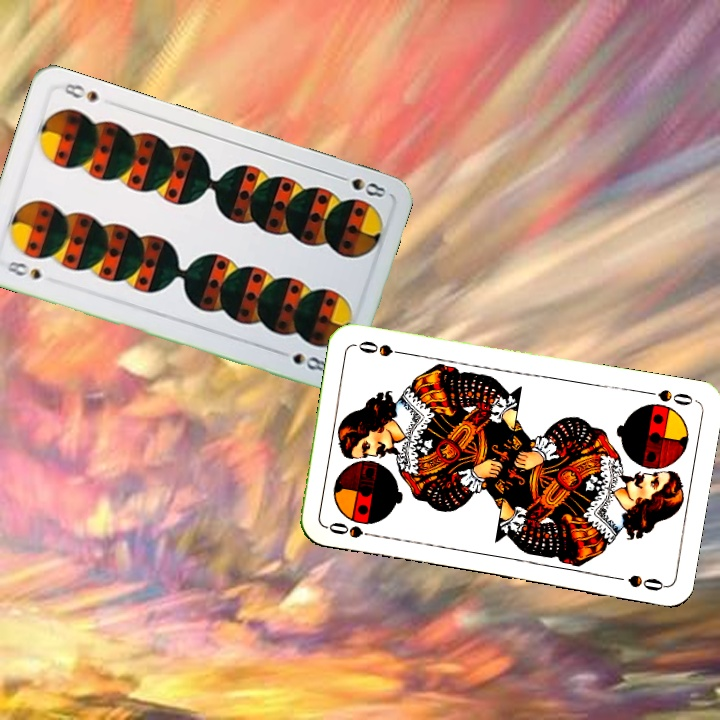S8: (331, 171, 388, 201), (2, 257, 44, 282)
SO: (322, 518, 381, 541), (639, 385, 698, 408)
